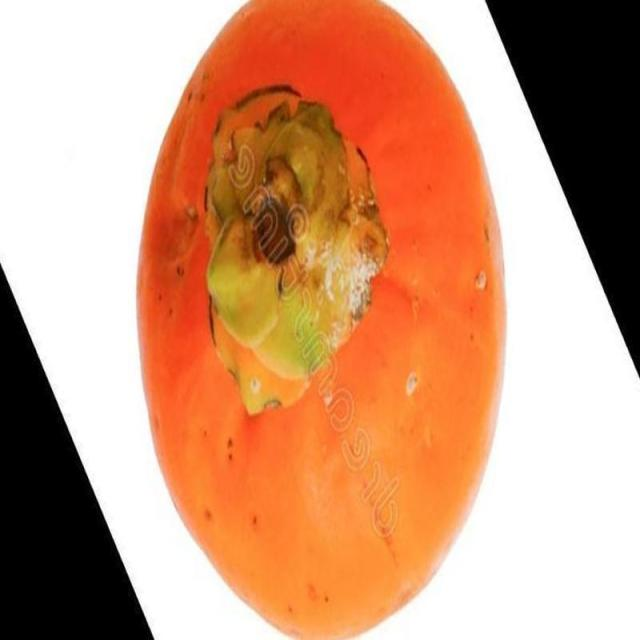good: (135, 0, 513, 639)
